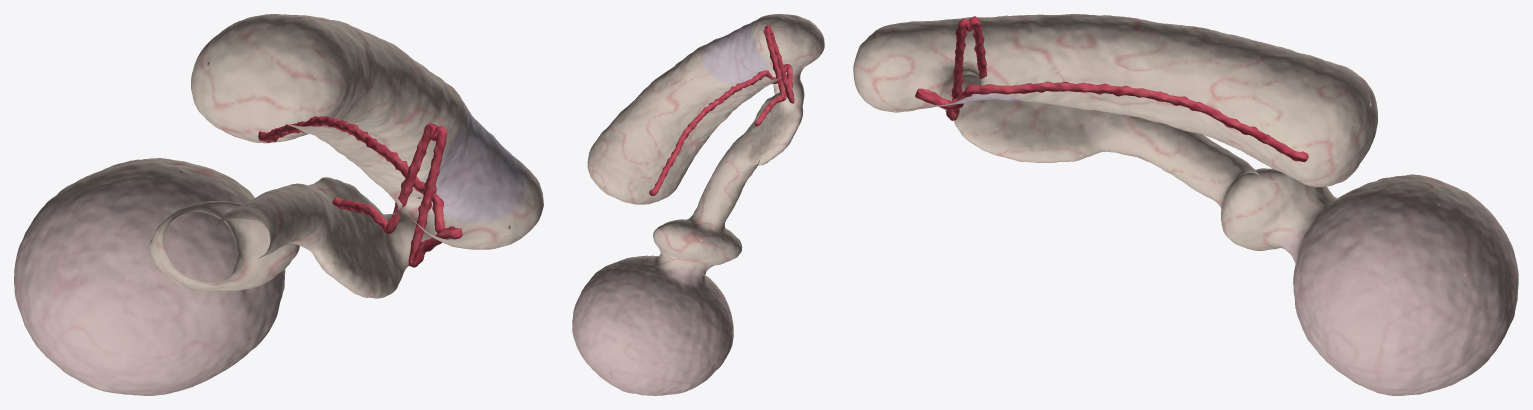
File: in_brain.glb
3 views of the same model, side by side, from view 1: azimuth 30°, elevation 25°; view 2: azimuth 150°, elevation 25°; view 3: azimuth 270°, elevation 25° (orthographic). The views are drawn at different scales.
Parts seen in each view (by area): view 1: ventricle_wall, choroid; view 2: ventricle_wall, choroid; view 3: ventricle_wall, choroid.
Boxes of the visible parts, bbox=[...] form: ventricle_wall: bbox=[14, 14, 543, 395]; choroid: bbox=[258, 116, 462, 267]; ventricle_wall: bbox=[572, 14, 824, 395]; choroid: bbox=[649, 25, 794, 195]; ventricle_wall: bbox=[853, 14, 1518, 395]; choroid: bbox=[915, 16, 1308, 162].
Size of the model in its own units: 8.39 by 12.52 by 19.55.
